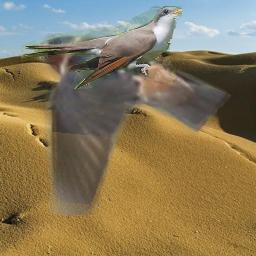Cuckoo: (21, 6, 182, 89)
Swallow: (34, 27, 231, 215)
